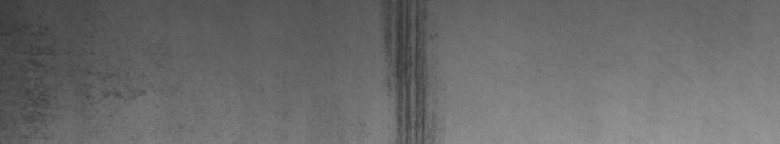ka: (385, 4, 438, 136)
